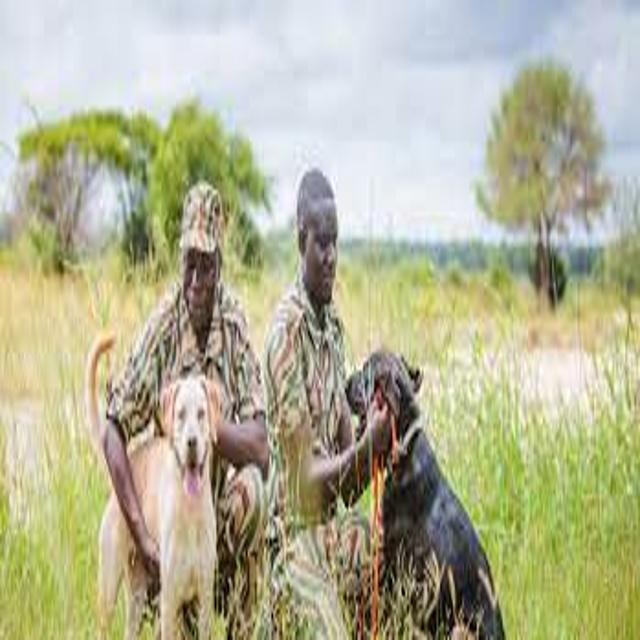dog: (286, 332, 518, 637), (57, 328, 258, 640)
ranger: (240, 149, 476, 638), (51, 161, 282, 629)
